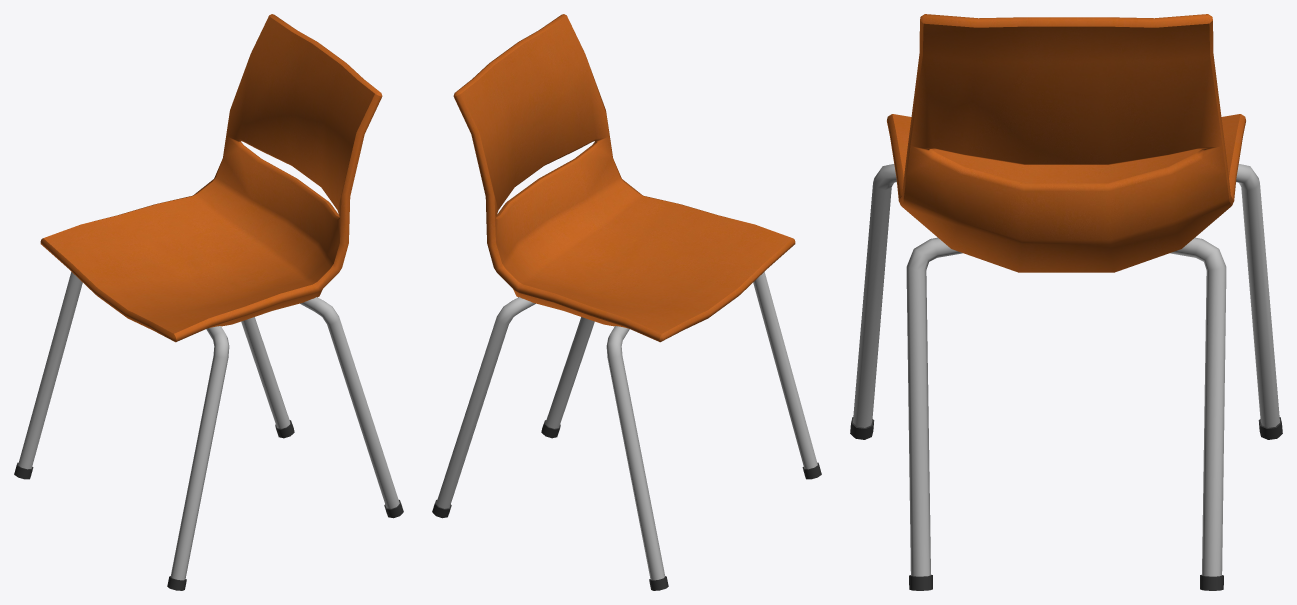
The model's file is Chair.glb.
3 renders of one model, left to right at view 1: azimuth 30°, elevation 25°; view 2: azimuth 150°, elevation 25°; view 3: azimuth 270°, elevation 25°, orthographic. The views are drawn at different scales.
Parts seen in each view (by area): view 1: Chair; view 2: Chair; view 3: Chair.
Part boxes in pixels (x1,y1,x2,y2): Chair: (14, 14, 403, 590); Chair: (432, 14, 821, 590); Chair: (850, 14, 1282, 590).
Size of what is drawn, in the model's own units: 0.4519 by 0.718 by 0.4959.
3 materials, 1 textured.
